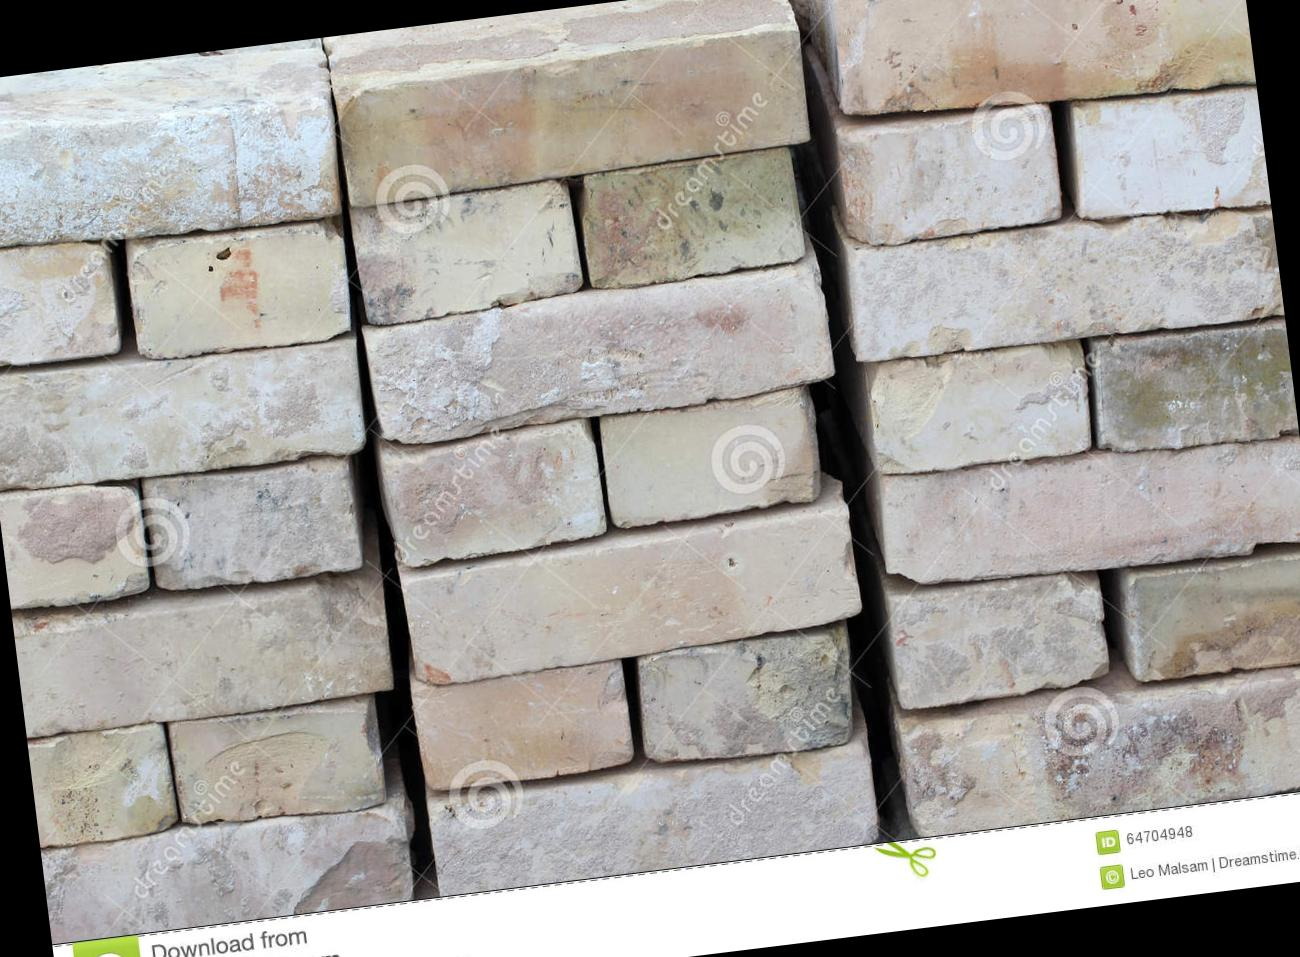brick: (363, 264, 837, 447), (399, 502, 862, 687), (335, 25, 813, 205), (877, 424, 1300, 598), (845, 199, 1285, 365), (426, 736, 880, 895), (898, 662, 1300, 837), (0, 329, 368, 496), (13, 578, 395, 737), (0, 83, 343, 258), (829, 0, 1256, 132), (40, 797, 415, 944), (350, 176, 584, 324), (380, 418, 608, 567), (576, 145, 806, 290), (837, 103, 1064, 246), (126, 220, 355, 361), (865, 336, 1093, 476), (634, 628, 860, 767), (600, 387, 818, 528), (144, 453, 361, 594), (888, 571, 1112, 707), (1066, 80, 1271, 226), (1088, 318, 1300, 457), (412, 658, 634, 789), (170, 698, 387, 830), (1126, 550, 1300, 679), (0, 478, 150, 610), (28, 722, 181, 848), (0, 237, 119, 369)
